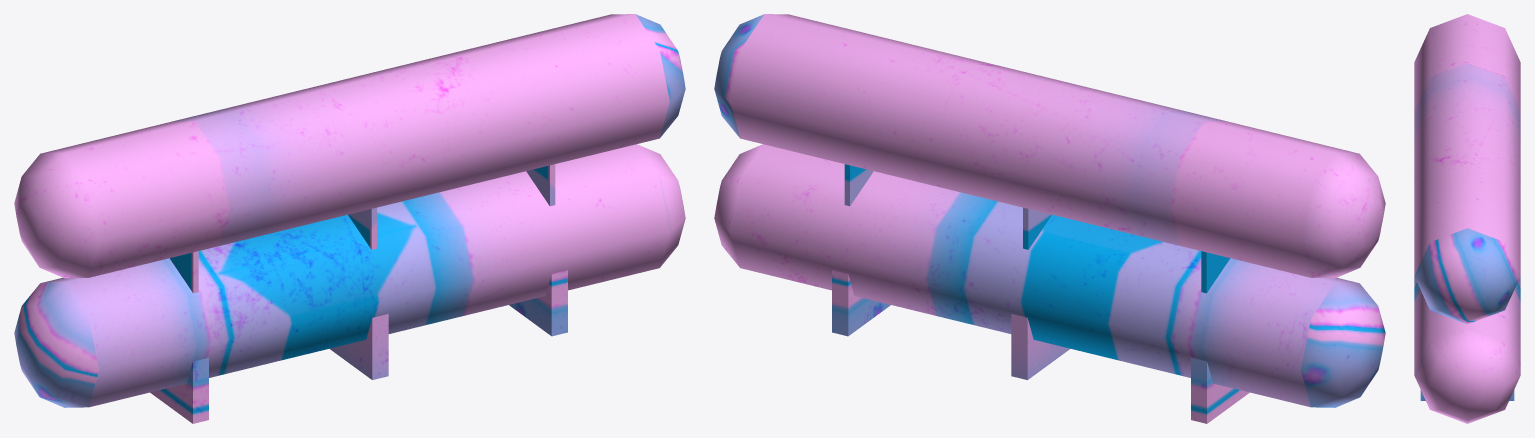
File: Tank_03_SM_Low.fbx
3 views of the same model, side by side, from view 1: azimuth 30°, elevation 25°; view 2: azimuth 150°, elevation 25°; view 3: azimuth 270°, elevation 25° (orthographic). The views are drawn at different scales.
Parts seen in each view (by area): view 1: Tank03; view 2: Tank03; view 3: Tank03.
Part boxes in pixels (x1,y1,x2,y2): Tank03: (14,14,685,423); Tank03: (714,14,1385,423); Tank03: (1414,14,1520,423).
Size of the model in its own units: 654 by 264 by 121.
